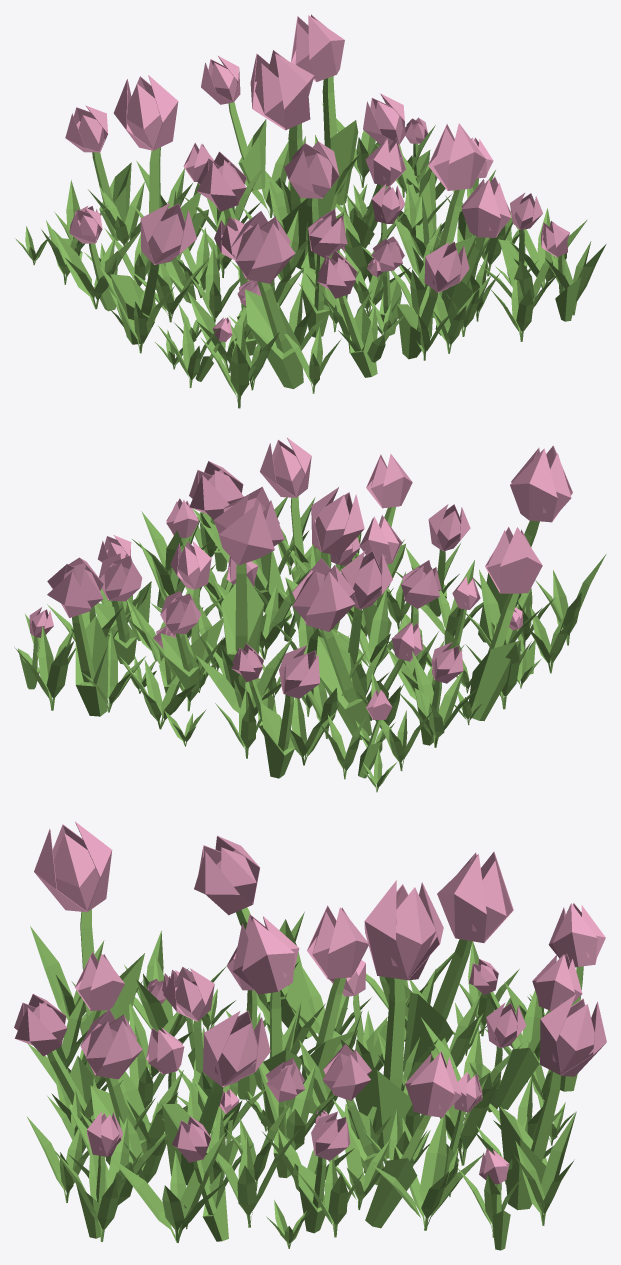
The model's file is FlowerGrassPink.fbx.
3 views of the same model, one above another, from view 1: azimuth 30°, elevation 25°; view 2: azimuth 150°, elevation 25°; view 3: azimuth 270°, elevation 25° (orthographic). The views are drawn at different scales.
Visible parts, largest first — view 1: Circle.003; view 2: Circle.003; view 3: Circle.003.
Part boxes in pixels (bbox=[...]): Circle.003: bbox=[15, 14, 606, 408]; Circle.003: bbox=[14, 437, 606, 792]; Circle.003: bbox=[14, 821, 606, 1250].
Size of the model in its own units: 115 by 56.6 by 114.
